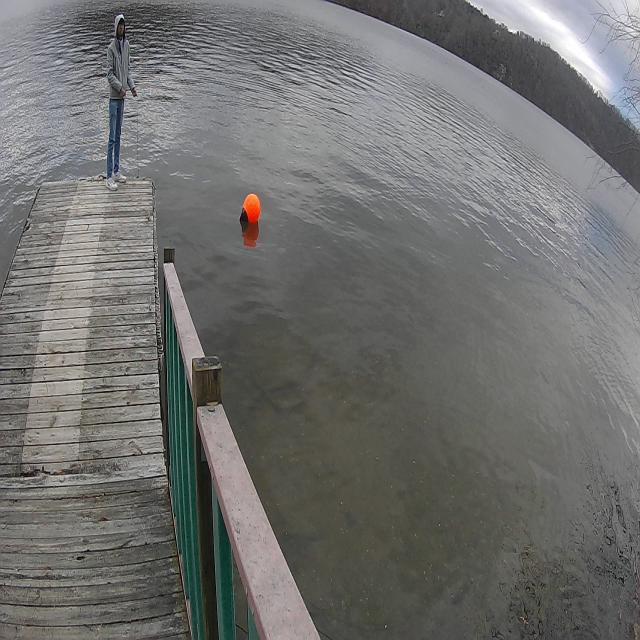Buoy: (240, 190, 262, 232)
